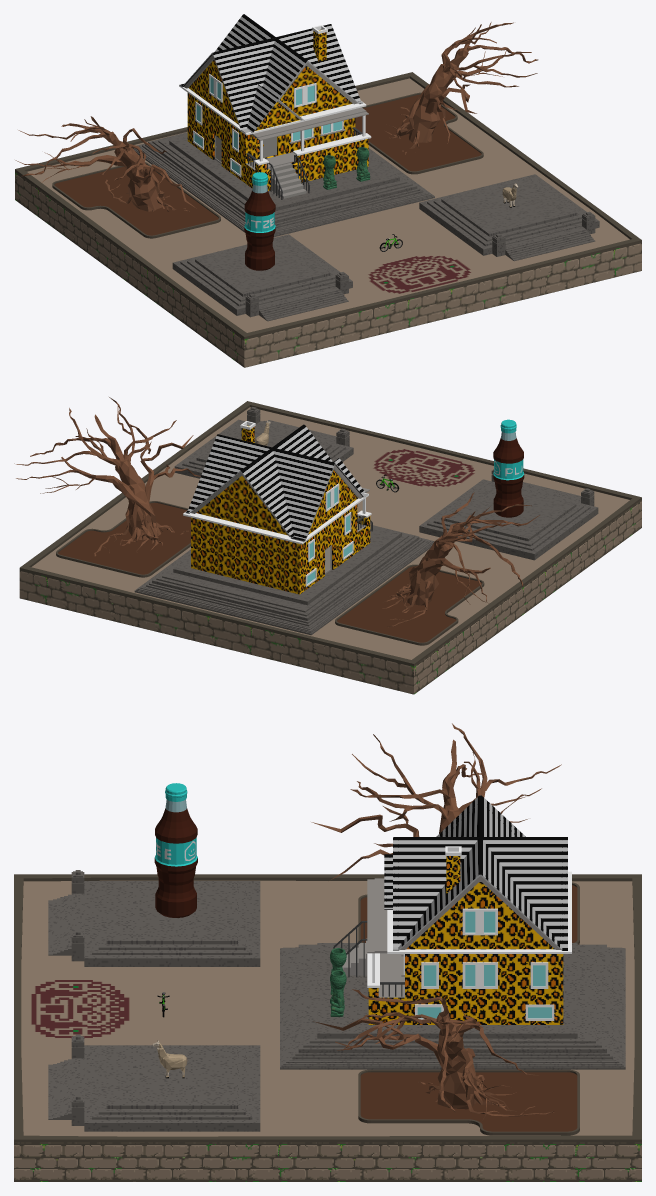
3 renders of one model, top to bottom at view 1: azimuth 30°, elevation 25°; view 2: azimuth 150°, elevation 25°; view 3: azimuth 270°, elevation 25°, orthographic. The views are drawn at different scales.
Parts seen in each view (by area): view 1: Cube.011, Cube.637, OBJRANDOM_PLATZEECOLA; view 2: Cube.011, Cube.637, OBJRANDOM_PLATZEECOLA; view 3: Cube.011, Cube.637, OBJRANDOM_PLATZEECOLA.
Part boxes in pixels (box(x1,y1,x2,y2)): Cube.011: box(15, 22, 641, 367); Cube.637: box(179, 14, 371, 199); OBJRANDOM_PLATZEECOLA: box(244, 172, 275, 270); Cube.011: box(14, 397, 641, 694); Cube.637: box(183, 421, 372, 594); OBJRANDOM_PLATZEECOLA: box(493, 419, 524, 517); Cube.011: box(14, 723, 641, 1181); Cube.637: box(333, 795, 571, 1024); OBJRANDOM_PLATZEECOLA: box(154, 783, 197, 917).
Bounding box in the file's own units: 5099 × 1663 × 4000.
Materials: 31 (6 with a texture image).
